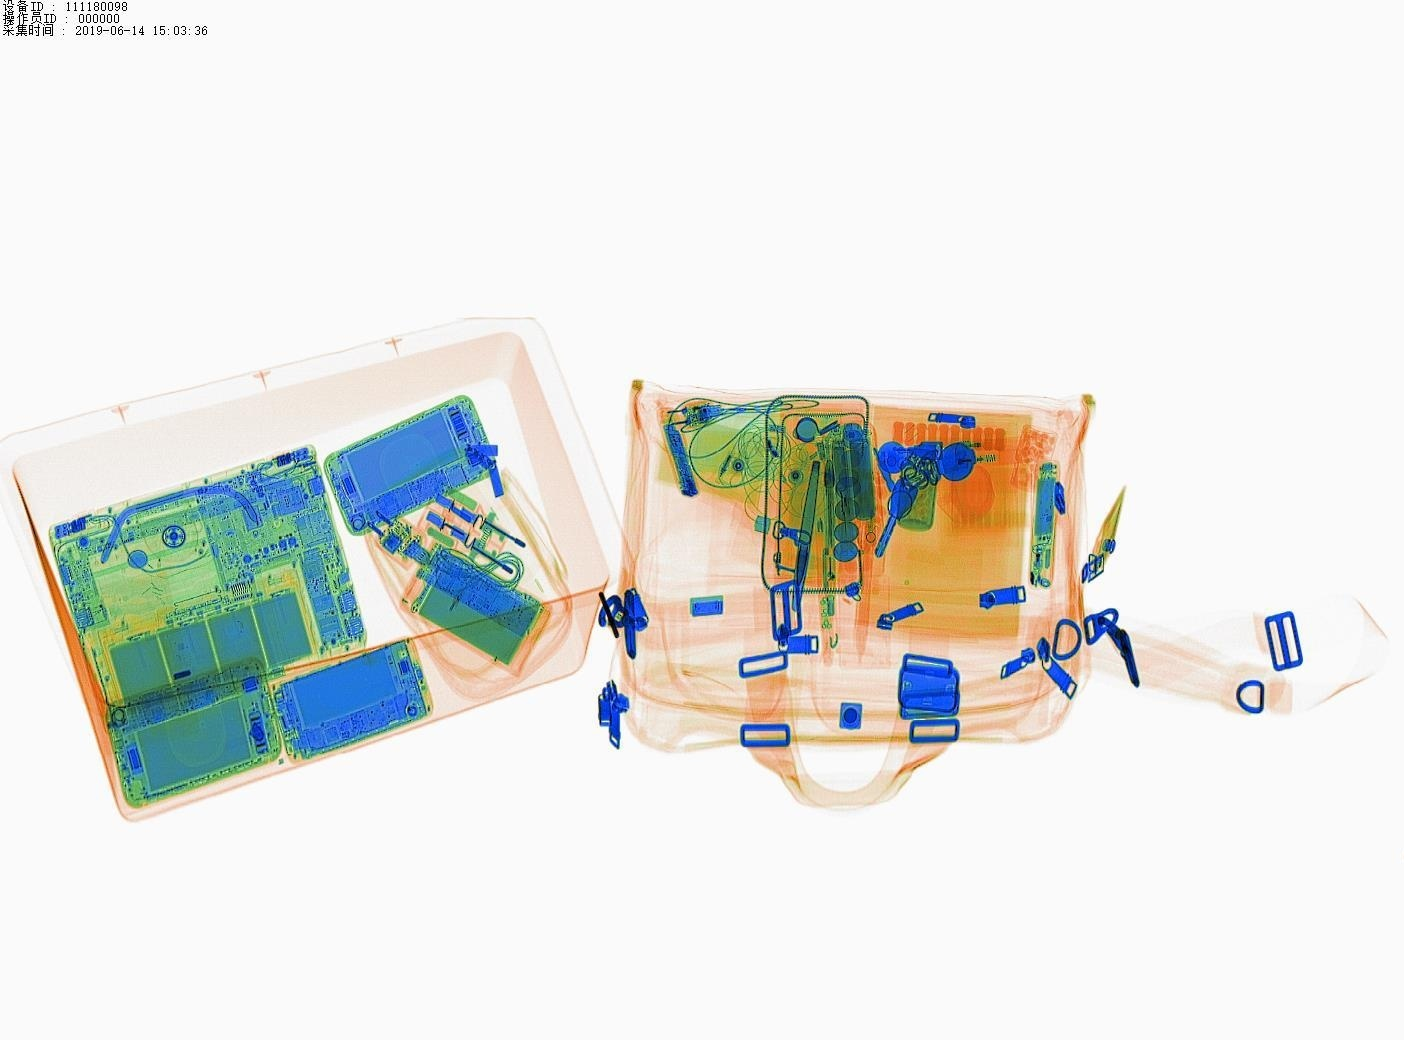NonmetallicFire: (939, 422, 1055, 465)
